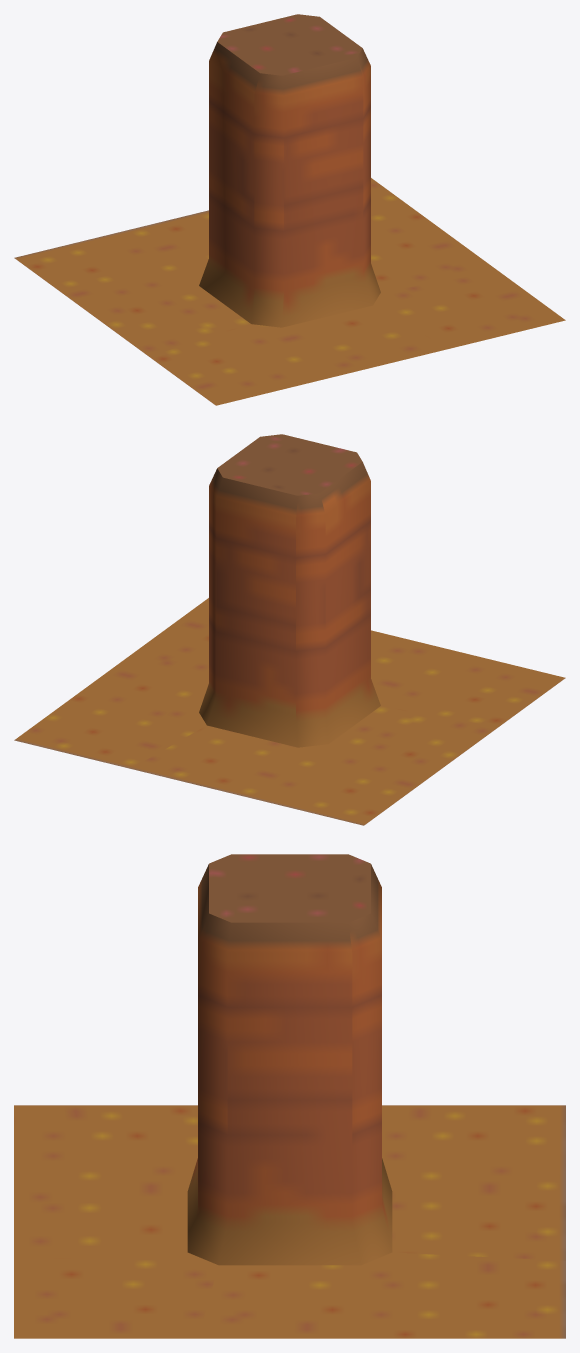
Rendered from canion_column_v02.fbx.
3 renders of one model, top to bottom at view 1: azimuth 30°, elevation 25°; view 2: azimuth 150°, elevation 25°; view 3: azimuth 270°, elevation 25°, orthographic. The views are drawn at different scales.
Visible parts, largest first — view 1: canion_column_v02; view 2: canion_column_v02; view 3: canion_column_v02.
Boxes of the visible parts, left/top/right/bottom form: canion_column_v02: left=14, top=14, right=565, bottom=405; canion_column_v02: left=14, top=434, right=565, bottom=825; canion_column_v02: left=14, top=854, right=565, bottom=1338.
Bounding box in the file's own units: 600 × 400 × 600.
